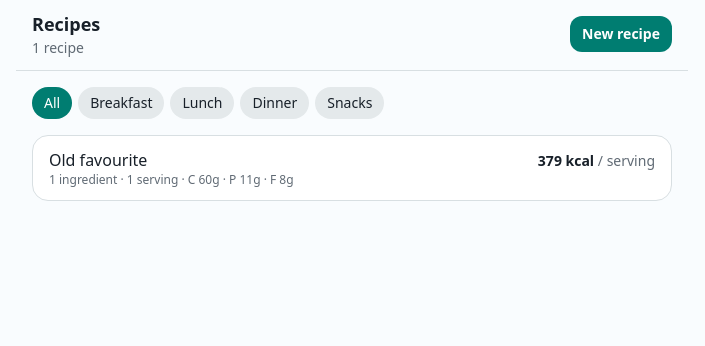
Scenario: RecipesPage — meal filter › explains an empty filter rather than looking broken
Click the button "Dinner" at (275, 103), box [240, 87, 309, 119]
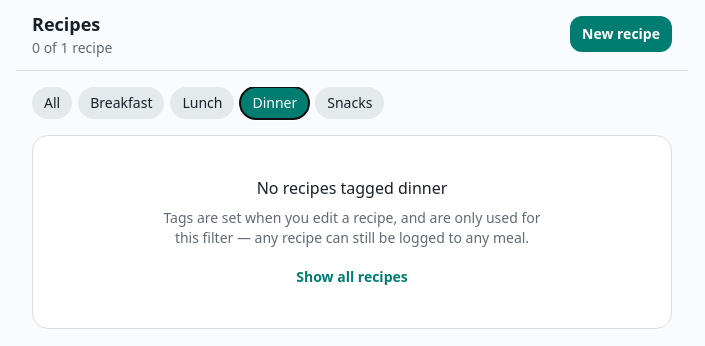
Check: the text "No recipes tagged dinner" is shown, box [257, 176, 447, 200]
Check: the text "can still be logged to any meal" is shown, box [164, 208, 541, 247]
Click the button "Show all recipes" at (352, 277), box [296, 267, 408, 287]
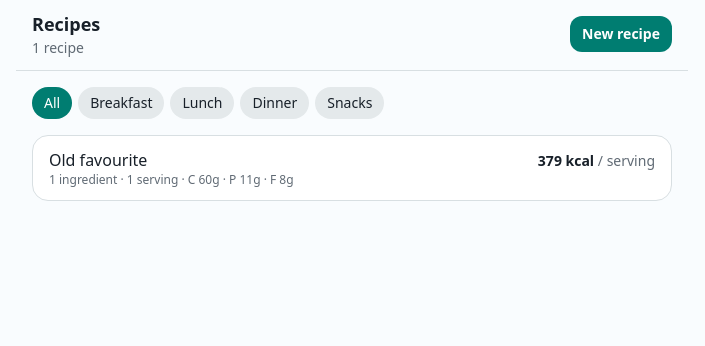
Check: the link that starts with "Old favourite" is shown, box [33, 136, 671, 200]
